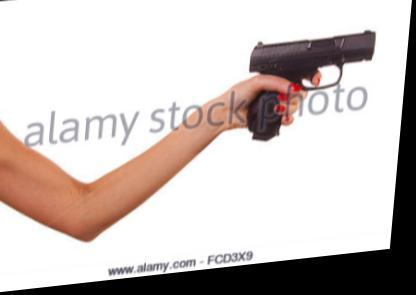pistol: (241, 34, 376, 149)
